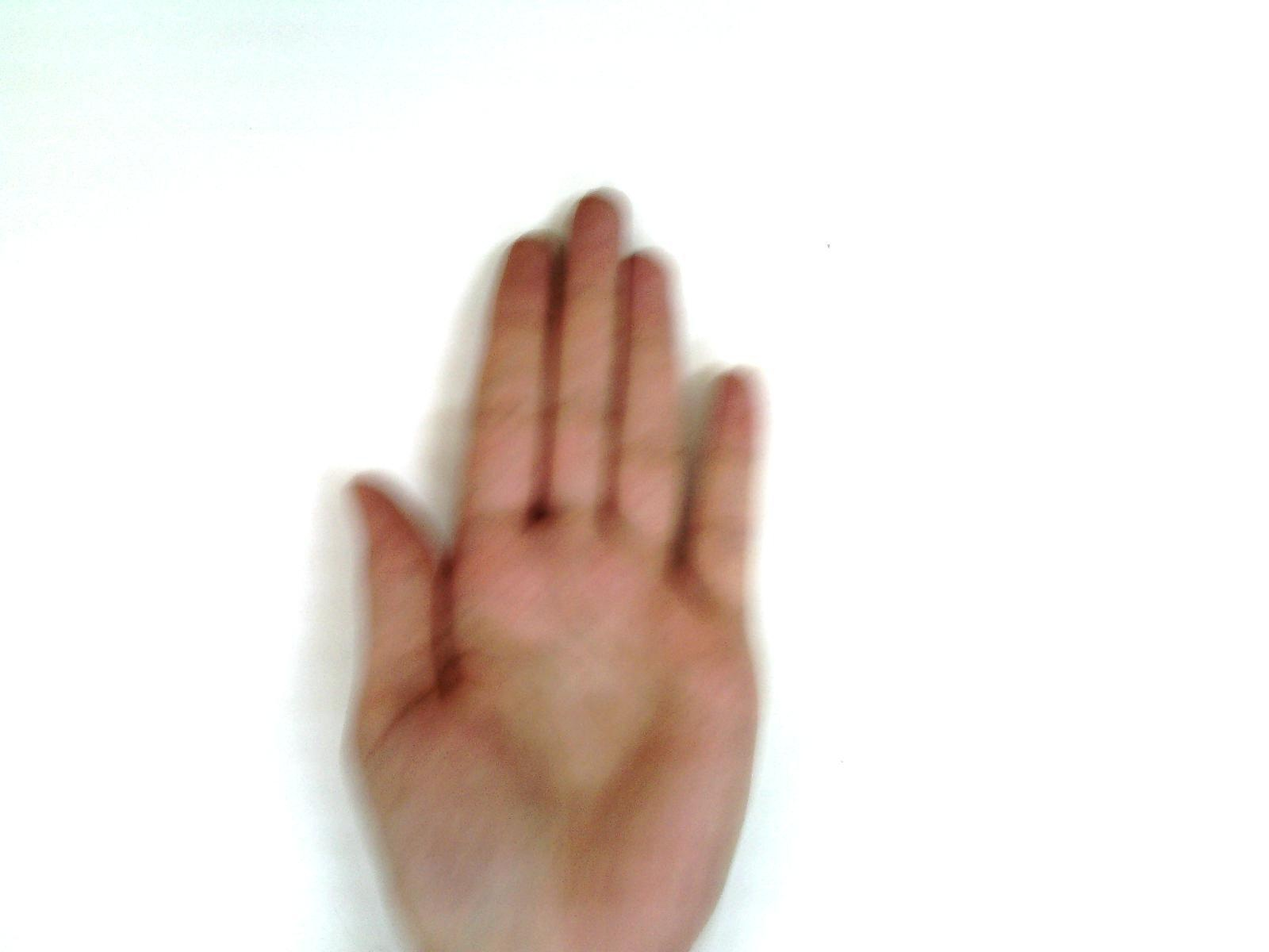open_palm: (337, 188, 774, 951)
